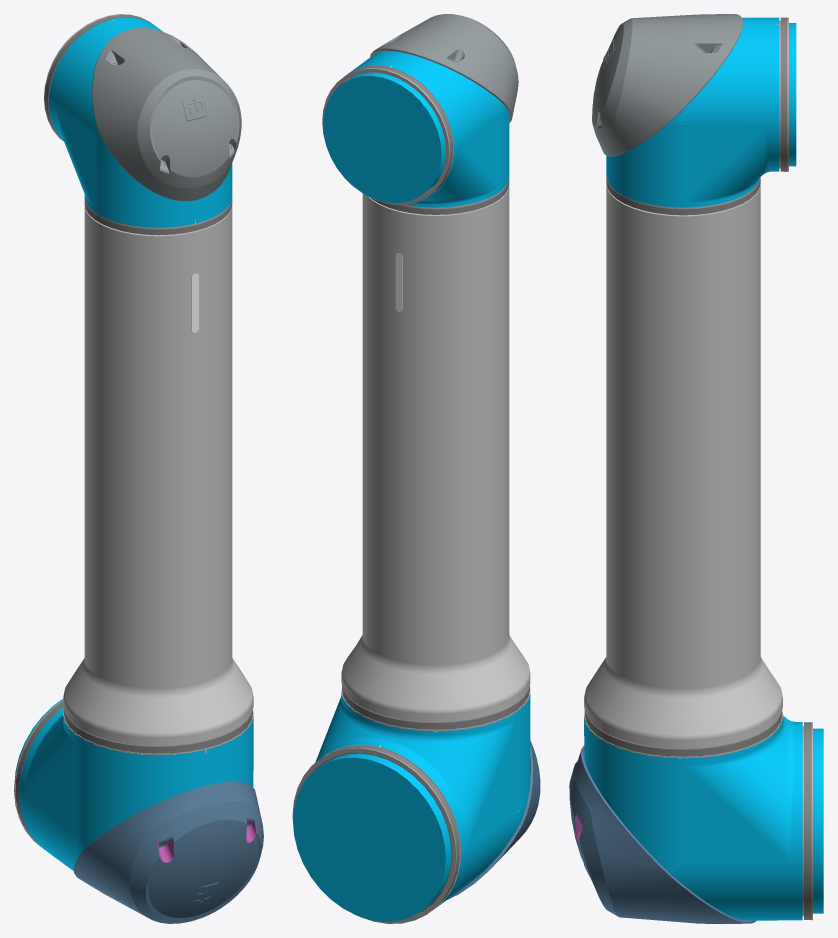
3 views of the same model, side by side, from view 1: azimuth 30°, elevation 25°; view 2: azimuth 150°, elevation 25°; view 3: azimuth 270°, elevation 25° (orthographic). The views are drawn at different scales.
Parts seen in each view (by area): view 1: link2; view 2: link2; view 3: link2.
Boxes of the visible parts, <box> form: link2: <box>14,14,263,923</box>; link2: <box>292,14,540,923</box>; link2: <box>569,14,823,923</box>.
Size of the model in its own units: 0.1531 by 0.1942 by 0.7534.
